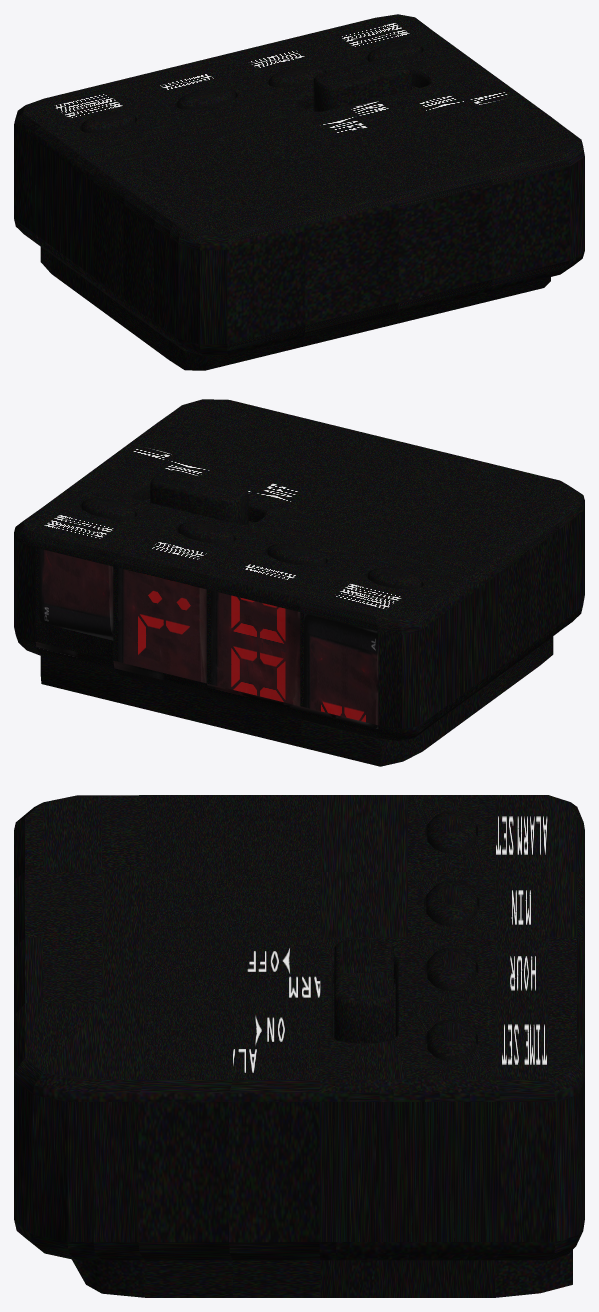
File: AlarmClock001.FBX
The picture shows the model from 3 angles, top to bottom: view 1: azimuth 30°, elevation 25°; view 2: azimuth 150°, elevation 25°; view 3: azimuth 270°, elevation 25°; orthographic projection. The views are drawn at different scales.
Parts seen in each view (by area): view 1: AlarmClock001; view 2: AlarmClock001; view 3: AlarmClock001.
Part boxes in pixels (x1=…): AlarmClock001: x1=14, y1=14, x2=584, y2=370; AlarmClock001: x1=14, y1=399, x2=584, y2=766; AlarmClock001: x1=14, y1=795, x2=584, y2=1297.
Size of the model in its own units: 13.48 by 5.37 by 11.04.
Materials: 1 (1 with a texture image).
